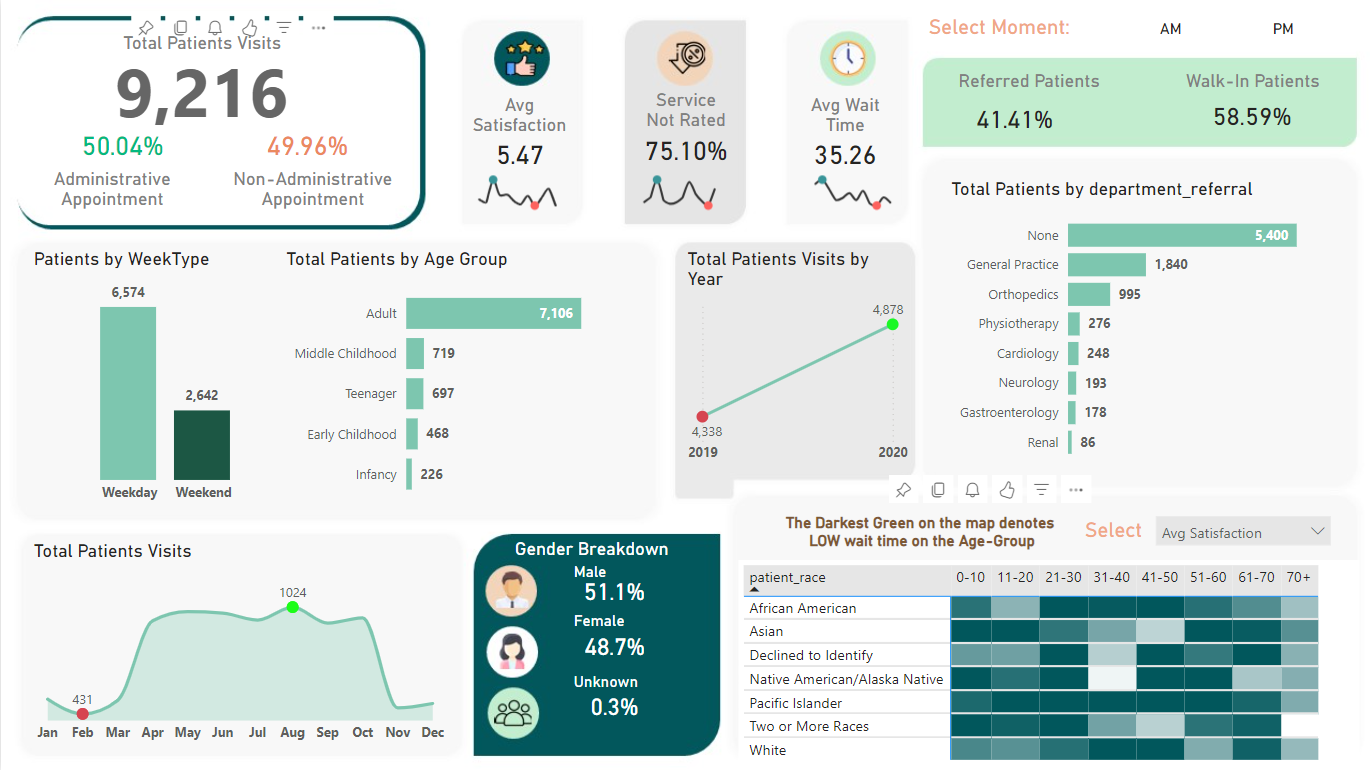

The page's visual inventory and layout, read from the dashboard file:
{"tool":"powerbi","page":{"name":"Page 1","canvas":[1280,720],"ordinal":0},"visuals":[{"type":"card","fields":{"Values":["Calculations.Total Patients"]},"box":[63.1,39.8,248.4,85.1],"z":0},{"type":"pivotTable","fields":{"Values":["Calculations.Avg Satisfaction Score"],"Rows":["Patients Dataset.patient_race"],"Columns":["Patients Dataset.Age Buckets"]},"box":[687.5,522.8,579.1,197.6],"z":1000},{"type":"card","fields":{"Values":["Calculations.% Administrative Schedule"]},"box":[58.3,112,109.6,47.5],"z":2000},{"type":"slicer","fields":{"Values":["Parameter.Parameter"]},"box":[1066.2,470.7,183.9,43.9],"z":3000},{"type":"card","fields":{"Values":["Calculations.% Non Administrative Schedule"]},"box":[232.4,112,108,47.5],"z":4000},{"type":"clusteredBarChart","fields":{"Category":["Patients Dataset.Age Group"],"Y":["Calculations.Total Patients"]},"box":[260.7,230.5,321.1,247],"z":5000},{"type":"areaChart","title":"Total Patients Visits","fields":{"Category":["Date.Month"],"Y":["Calculations.Total Patients","Calculations.Value MAX Point"]},"box":[26.1,503.6,395.2,197.6],"z":6000},{"type":"advancedSlicerVisual","fields":{"Values":["Patients Dataset.AM/PM"]},"box":[1036,0,214.1,42.5],"z":7000},{"type":"card","fields":{"Values":["Calculations.%Reffered Patients"]},"box":[885.8,84.6,119.3,51.2],"z":8000},{"type":"lineChart","title":"Total Patients Visits by Year","fields":{"Y":["Calculations.Total Patients"],"Category":["Date.Year"]},"box":[635.3,230.5,215.4,209.9],"z":9000},{"type":"card","fields":{"Values":["Calculations.%None Reffered Patients"]},"box":[1095.1,81.9,144.1,53.9],"z":10000},{"type":"clusteredBarChart","fields":{"Y":["Calculations.Total Patients"],"Category":["Patients Dataset.department_referral"]},"box":[881,166,369.1,274.4],"z":11000},{"type":"card","fields":{"Values":["Calculations.HeatMap Caption"]},"box":[701.2,470.7,317,52.1],"z":12000},{"type":"card","title":"Avg Satisfaction","fields":{"Values":["Calculations.Avg Satisfaction Score"]},"box":[435,87.8,97.4,74.1],"z":13000},{"type":"card","title":"Service Not Rated","fields":{"Values":["Calculations.%No_Rating"]},"box":[592.8,82.3,93.3,75.5],"z":14000},{"type":"card","title":"Avg Wait Time","fields":{"Values":["Calculations.Average Wait Time"]},"box":[741,87.8,91.9,74.1],"z":15000},{"type":"textbox","box":[881,60.4,155.1,32.9],"z":16000},{"type":"textbox","box":[1085.8,60.3,164.3,32.4],"z":17000},{"type":"clusteredColumnChart","title":"Patients by WeekType","fields":{"Y":["Calculations.Total Patients"],"Category":["Date.WeekType"]},"box":[26.1,230.5,258,247],"z":18000},{"type":"card","fields":{"Values":["Calculations.% Male Visit"]},"box":[529.7,522.8,85.1,59],"z":19000},{"type":"textbox","box":[26.1,151.6,156.4,48.8],"z":20000},{"type":"card","fields":{"Values":["Calculations.% Female Visit"]},"box":[533.8,573.6,76.8,59],"z":21000},{"type":"textbox","box":[187.3,151.6,206.3,48.8],"z":22000},{"type":"card","fields":{"Values":["Calculations.% Unknown"]},"box":[531,632.6,81,52.1],"z":23000},{"type":"textbox","box":[79.6,24.7,216.8,35.7],"z":24000},{"type":"PBI_CV_25997FEB_F466_44FA_B562_AC4063283C4C","fields":{"measure":["Calculations.Avg Satisfaction Score"],"axis":["Date.Month"]},"box":[428.1,150.9,111.1,52.1],"z":25000},{"type":"PBI_CV_25997FEB_F466_44FA_B562_AC4063283C4C","fields":{"measure":["Calculations.%No_Rating"],"axis":["Date.Month"]},"box":[581.8,150.9,105.7,52.1],"z":26000},{"type":"PBI_CV_25997FEB_F466_44FA_B562_AC4063283C4C","fields":{"axis":["Date.Month"],"measure":["Calculations.Average Wait Time"]},"box":[741,150.9,109.8,52.1],"z":27000},{"type":"textbox","box":[474.8,496.7,164.7,35.7],"z":28000},{"type":"textbox","box":[529.7,518.7,81,27.4],"z":29000},{"type":"textbox","box":[529.7,564,63.1,28.8],"z":30000},{"type":"textbox","box":[529.7,621.6,81,27.4],"z":31000},{"type":"textbox","box":[1005.8,477.5,79.6,37],"z":32000},{"type":"textbox","box":[860.4,9.6,157.8,32.9],"z":33000}]}

Visuals, with their boxes in screenshot pixels (x1, y1, x2, y2), scaled from the page's 1280x720 canvas onto the 1370x770 screenshot:
card - Calculations.Total Patients: crop(68, 43, 333, 134)
pivotTable - Calculations.Avg Satisfaction Score x Patients Dataset.patient_race: crop(736, 559, 1356, 769)
card - Calculations.% Administrative Schedule: crop(62, 120, 180, 171)
slicer - Parameter.Parameter: crop(1141, 503, 1338, 550)
card - Calculations.% Non Administrative Schedule: crop(249, 120, 364, 171)
clusteredBarChart - Patients Dataset.Age Group x Calculations.Total Patients: crop(279, 247, 623, 511)
"Total Patients Visits" areaChart: crop(28, 539, 451, 750)
advancedSlicerVisual - Patients Dataset.AM/PM: crop(1109, 0, 1338, 45)
card - Calculations.%Reffered Patients: crop(948, 90, 1076, 145)
"Total Patients Visits by Year" lineChart: crop(680, 247, 911, 471)
card - Calculations.%None Reffered Patients: crop(1172, 88, 1326, 145)
clusteredBarChart - Calculations.Total Patients x Patients Dataset.department_referral: crop(943, 178, 1338, 471)
card - Calculations.HeatMap Caption: crop(751, 503, 1090, 559)
"Avg Satisfaction" card: crop(466, 94, 570, 173)
"Service Not Rated" card: crop(634, 88, 734, 169)
"Avg Wait Time" card: crop(793, 94, 891, 173)
textbox: crop(943, 65, 1109, 100)
textbox: crop(1162, 64, 1338, 99)
"Patients by WeekType" clusteredColumnChart: crop(28, 247, 304, 511)
card - Calculations.% Male Visit: crop(567, 559, 658, 622)
textbox: crop(28, 162, 195, 214)
card - Calculations.% Female Visit: crop(571, 613, 654, 677)
textbox: crop(200, 162, 421, 214)
card - Calculations.% Unknown: crop(568, 677, 655, 732)
textbox: crop(85, 26, 317, 65)
PBI_CV_25997FEB_F466_44FA_B562_AC4063283C4C - Calculations.Avg Satisfaction Score x Date.Month: crop(458, 161, 577, 217)
PBI_CV_25997FEB_F466_44FA_B562_AC4063283C4C - Calculations.%No_Rating x Date.Month: crop(623, 161, 736, 217)
PBI_CV_25997FEB_F466_44FA_B562_AC4063283C4C - Date.Month x Calculations.Average Wait Time: crop(793, 161, 911, 217)
textbox: crop(508, 531, 684, 569)
textbox: crop(567, 555, 654, 584)
textbox: crop(567, 603, 634, 634)
textbox: crop(567, 665, 654, 694)
textbox: crop(1077, 511, 1162, 550)
textbox: crop(921, 10, 1090, 45)
